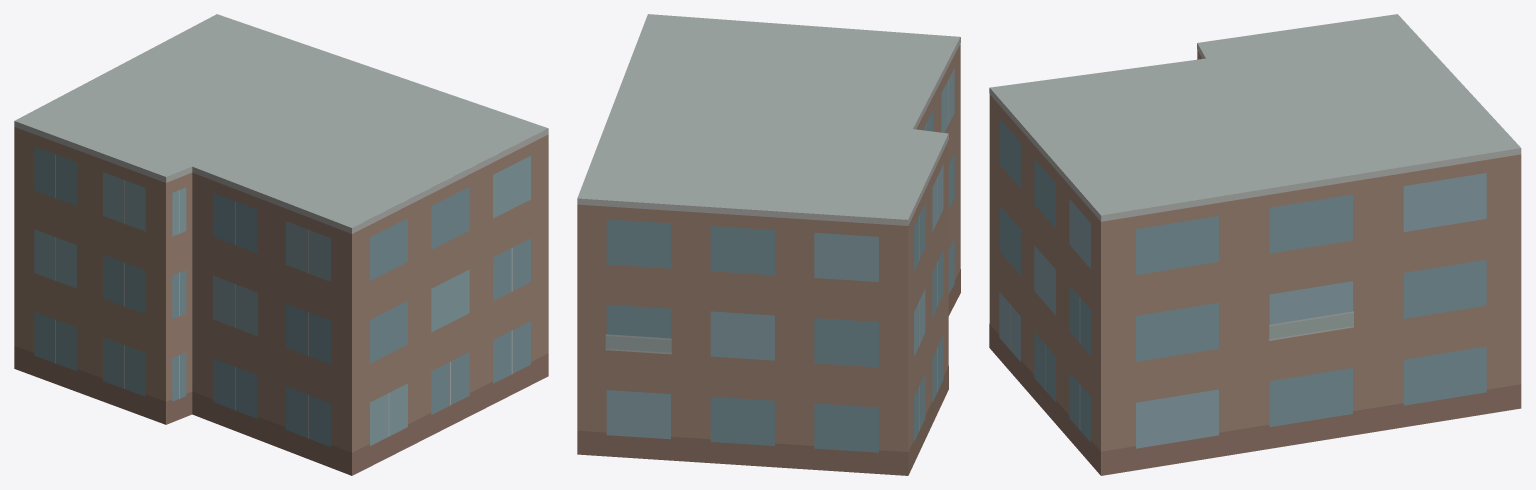
File: survey-upis-32832760.glb
3 renders of one model, left to right at view 1: azimuth 30°, elevation 25°; view 2: azimuth 150°, elevation 25°; view 3: azimuth 270°, elevation 25°, orthographic. The views are drawn at different scales.
Parts seen in each view (by area): view 1: survey-upis-32832760.tmp; view 2: survey-upis-32832760.tmp; view 3: survey-upis-32832760.tmp.
Boxes of the visible parts, x1,y1,x2,y2 form: survey-upis-32832760.tmp: (14, 14, 548, 475); survey-upis-32832760.tmp: (577, 14, 960, 475); survey-upis-32832760.tmp: (989, 14, 1521, 475).
Bounding box in the file's own units: 16.95 × 10.2 × 18.9.
